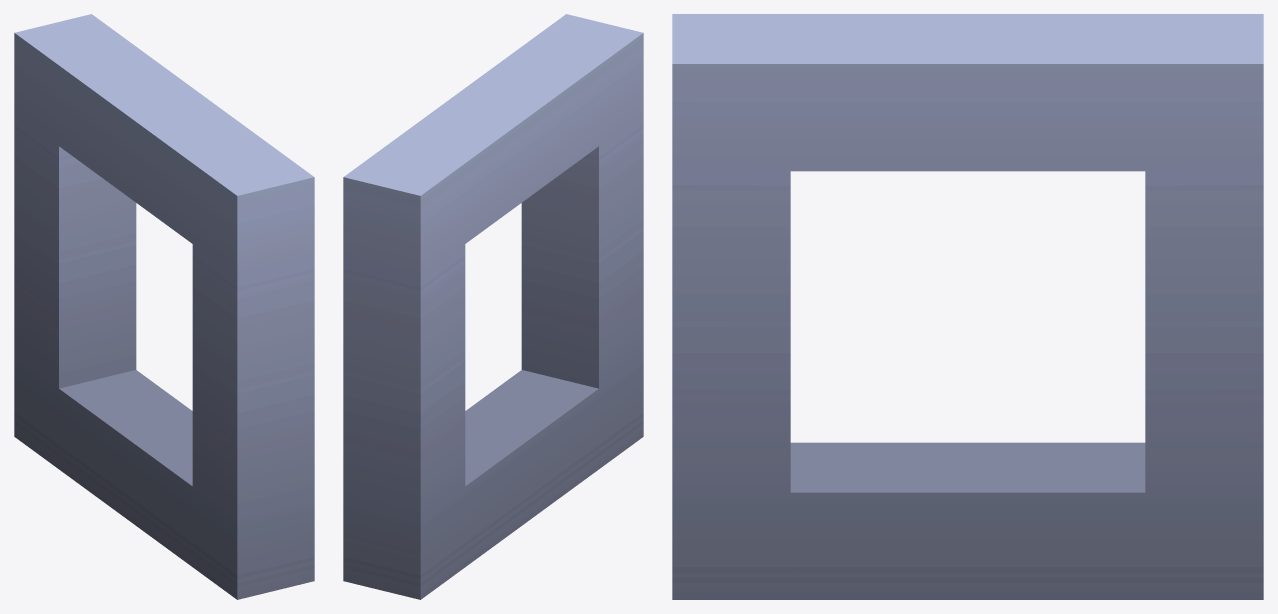
Rendered from wall-window-cutout-large.glb.
3 renders of one model, left to right at view 1: azimuth 30°, elevation 25°; view 2: azimuth 150°, elevation 25°; view 3: azimuth 270°, elevation 25°, orthographic. The views are drawn at different scales.
Parts seen in each view (by area): view 1: wall-window-cutout-large; view 2: wall-window-cutout-large; view 3: wall-window-cutout-large.
Part boxes in pixels (<box>): wall-window-cutout-large: <box>14,14,314,599</box>; wall-window-cutout-large: <box>343,14,643,599</box>; wall-window-cutout-large: <box>672,14,1263,599</box>.
Size of the model in its own units: 0.2 by 1 by 1.
Materials: 1 (1 with a texture image).
